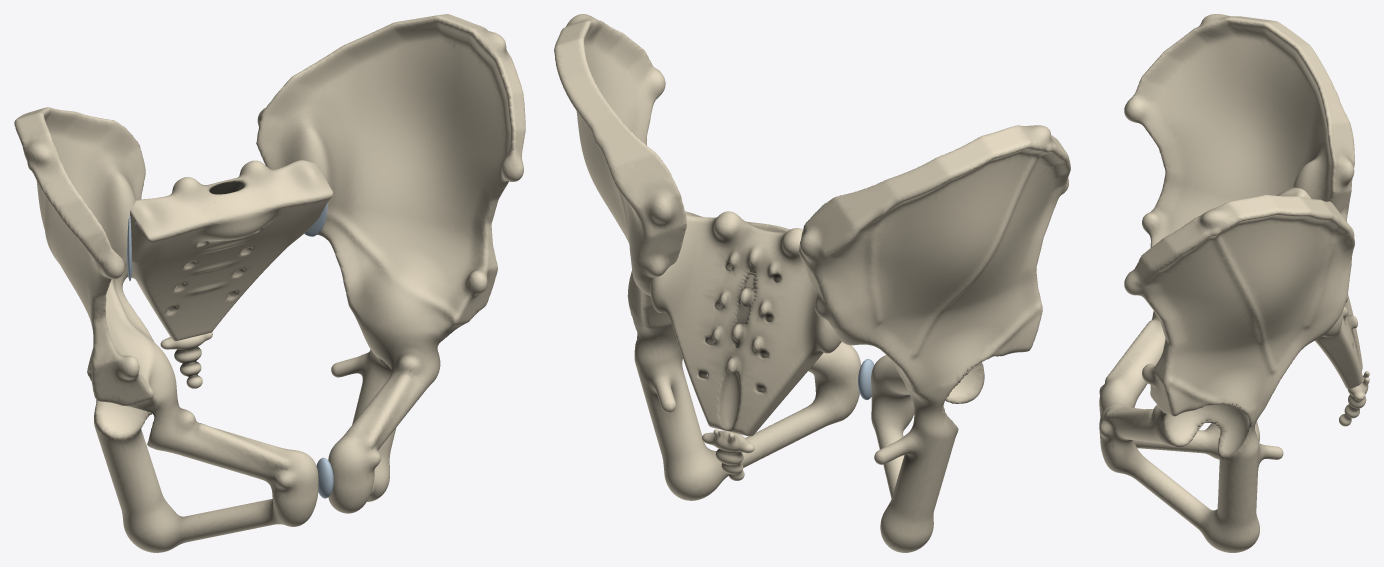
The model's file is pelvis.glb.
3 views of the same model, side by side, from view 1: azimuth 30°, elevation 25°; view 2: azimuth 150°, elevation 25°; view 3: azimuth 270°, elevation 25° (orthographic). The views are drawn at different scales.
Visible parts, largest first — view 1: ilium_L, ilium_R, pubis_R, pubis_L, ischium_R, sacrum_ala, ischium_L, sacrum_S5, sacrum_S3, sacrum_S4, sacrum_promontory, sacrum_S1 (+4 smaller); view 2: ilium_R, ilium_L, ischium_L, ischium_R, sacrum_lateral_crests, pubis_L, sacrum_S5, pubis_R, sacrum_intermediate_crests, sacrum_S4, sacrum_S3, sacrum_S2 (+9 smaller); view 3: ilium_L, ilium_R, ischium_L, pubis_L, pubis_R, sacrum_S5, ischium_R, coccyx, sacrum_S4.
Boxes of the visible parts, bbox=[...] form: ilium_L: bbox=[256, 14, 525, 340]; ilium_R: bbox=[14, 107, 176, 409]; pubis_R: bbox=[139, 388, 318, 539]; pubis_L: bbox=[328, 333, 450, 513]; ischium_R: bbox=[89, 376, 208, 552]; sacrum_ala: bbox=[130, 161, 333, 266]; ischium_L: bbox=[331, 320, 396, 501]; sacrum_S5: bbox=[142, 277, 258, 341]; sacrum_S3: bbox=[132, 224, 312, 282]; sacrum_S4: bbox=[136, 247, 286, 302]; sacrum_promontory: bbox=[201, 190, 276, 231]; sacrum_S1: bbox=[135, 160, 306, 235]; ilium_R: bbox=[798, 125, 1070, 389]; ilium_L: bbox=[554, 14, 686, 324]; ischium_L: bbox=[629, 308, 763, 500]; ischium_R: bbox=[874, 381, 958, 552]; sacrum_lateral_crests: bbox=[659, 233, 820, 384]; pubis_L: bbox=[745, 342, 860, 460]; sacrum_S5: bbox=[680, 348, 802, 436]; pubis_R: bbox=[871, 355, 984, 481]; sacrum_intermediate_crests: bbox=[708, 237, 783, 368]; sacrum_S4: bbox=[670, 306, 818, 377]; sacrum_S3: bbox=[658, 274, 821, 339]; sacrum_S2: bbox=[685, 229, 801, 294]; ilium_L: bbox=[1124, 194, 1354, 416]; ilium_R: bbox=[1124, 14, 1354, 247]; ischium_L: bbox=[1188, 403, 1283, 552]; pubis_L: bbox=[1099, 403, 1189, 521]; pubis_R: bbox=[1099, 311, 1189, 451]; sacrum_S5: bbox=[1325, 298, 1362, 388]; ischium_R: bbox=[1188, 421, 1259, 459]; coccyx: bbox=[1339, 371, 1369, 426]; sacrum_S4: bbox=[1315, 294, 1348, 353].
Bounding box in the file's own units: 0.2898 × 0.2586 × 0.1598.
